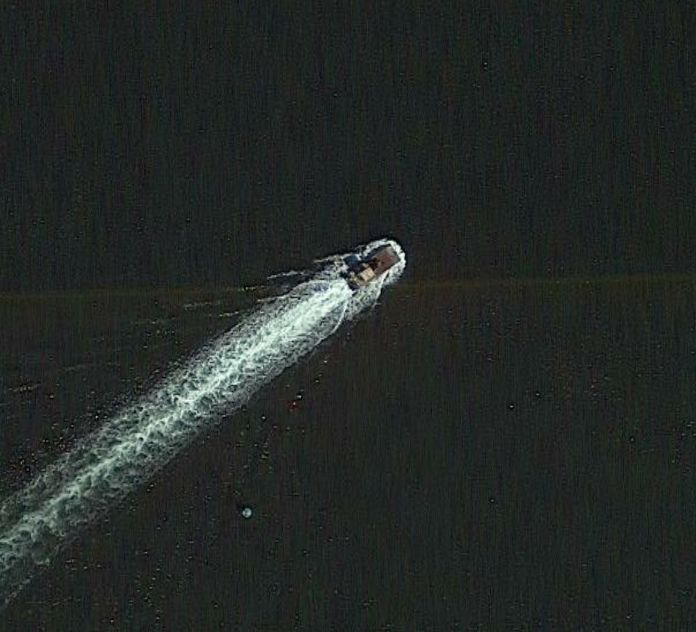boat: (335, 240, 407, 295)
